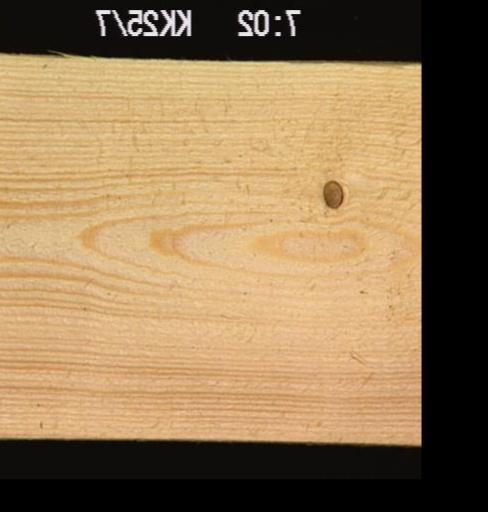dry_knot: (321, 176, 345, 209)
